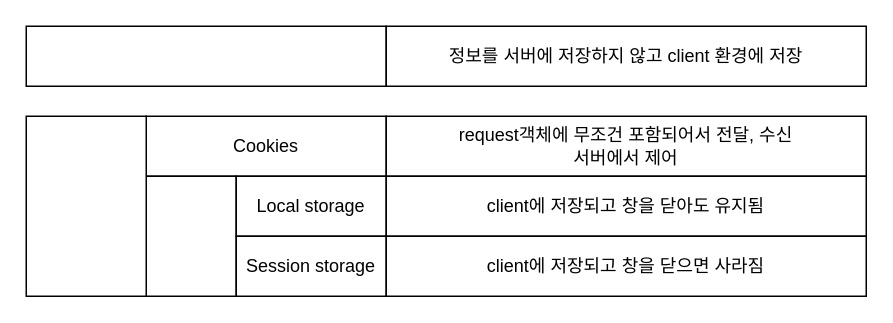
The diagram is 893 pixels wide and 323 high, and some of its shapes have lost their labels. Each missing label, with the centre of its shape:
"Cookies 와 Storage 공통점" belongs at point (205, 55).
"Cookies 와 Storage 차이점" belongs at point (85, 205).
"Storage" belongs at point (190, 235).
